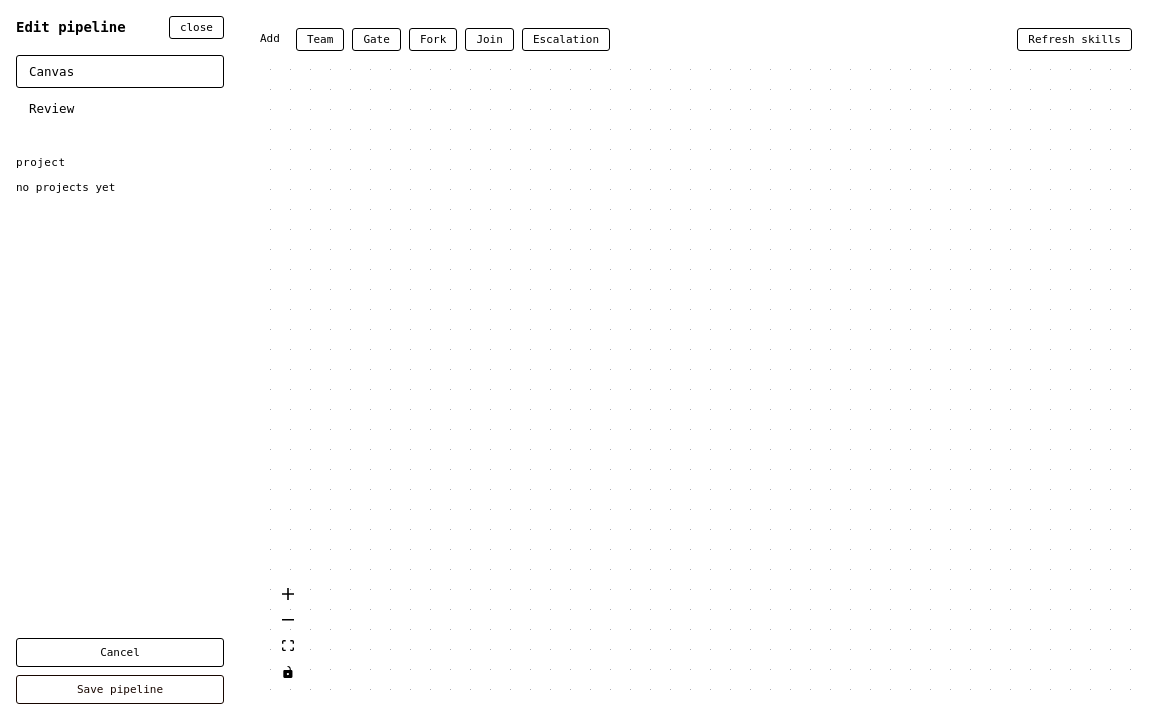
PipelineEditor › surfaces the backend error when save fails
Click the button "Save pipeline": (120, 690) left=16, top=675, right=224, bottom=704
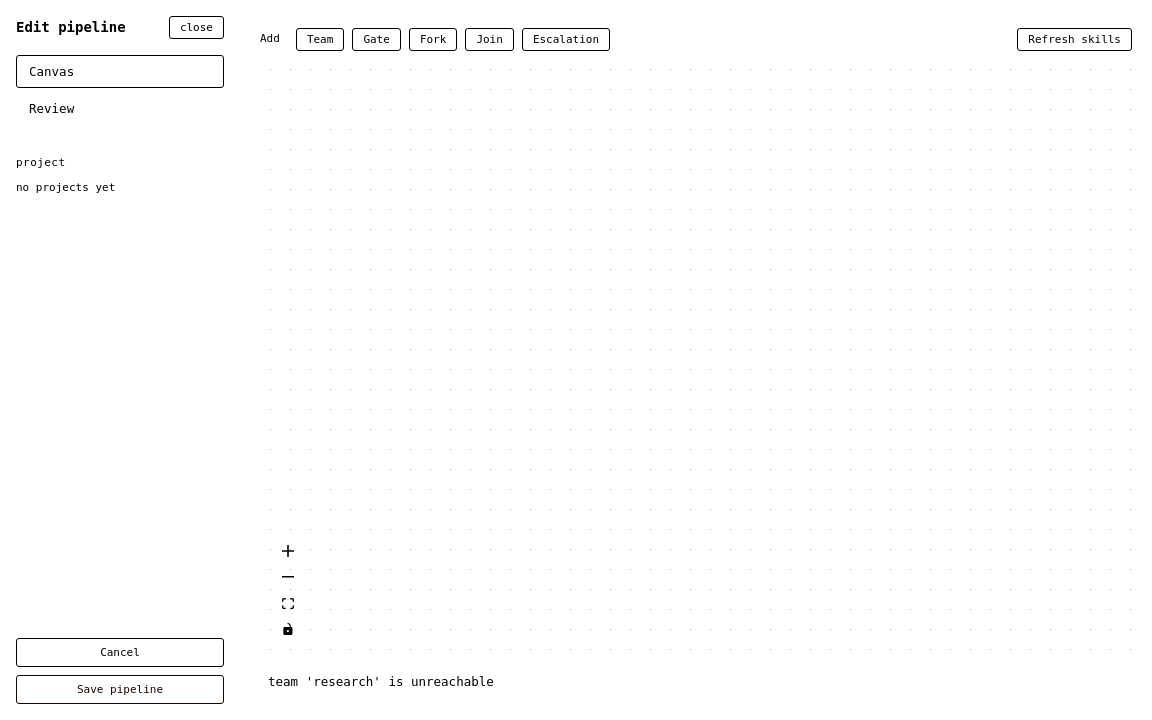
Now the message shows "unreachable", box left=268, top=674, right=494, bottom=689
